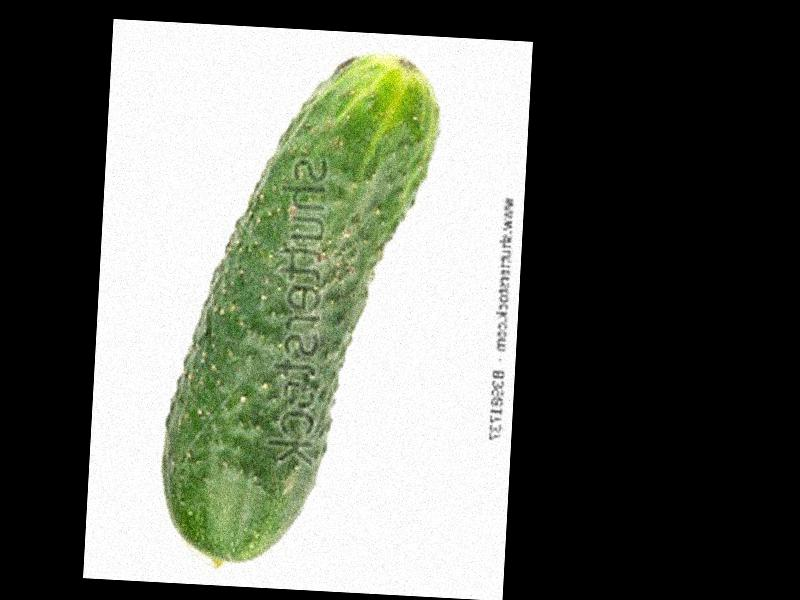Cucumber: (156, 45, 441, 574)
